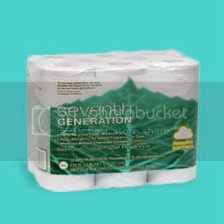tissue: (20, 42, 205, 196)
